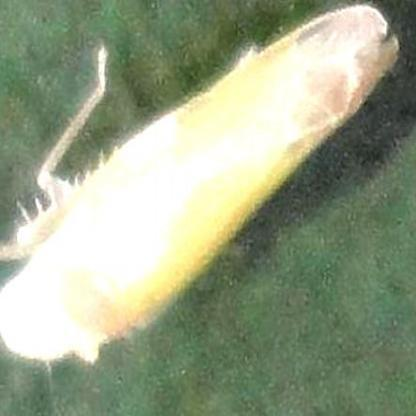green-leafhopper: (0, 6, 407, 364)
